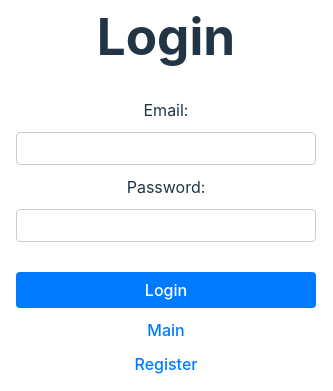
Test: App › should render the main page after visited the register page and clicked on the home link
The image size is (333, 391).
Click the link "Main": [166, 330] box [147,320,185,340]
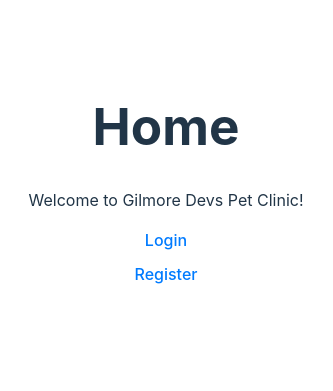
Expected: the heading "Home" is shown, [93,95,239,157]
